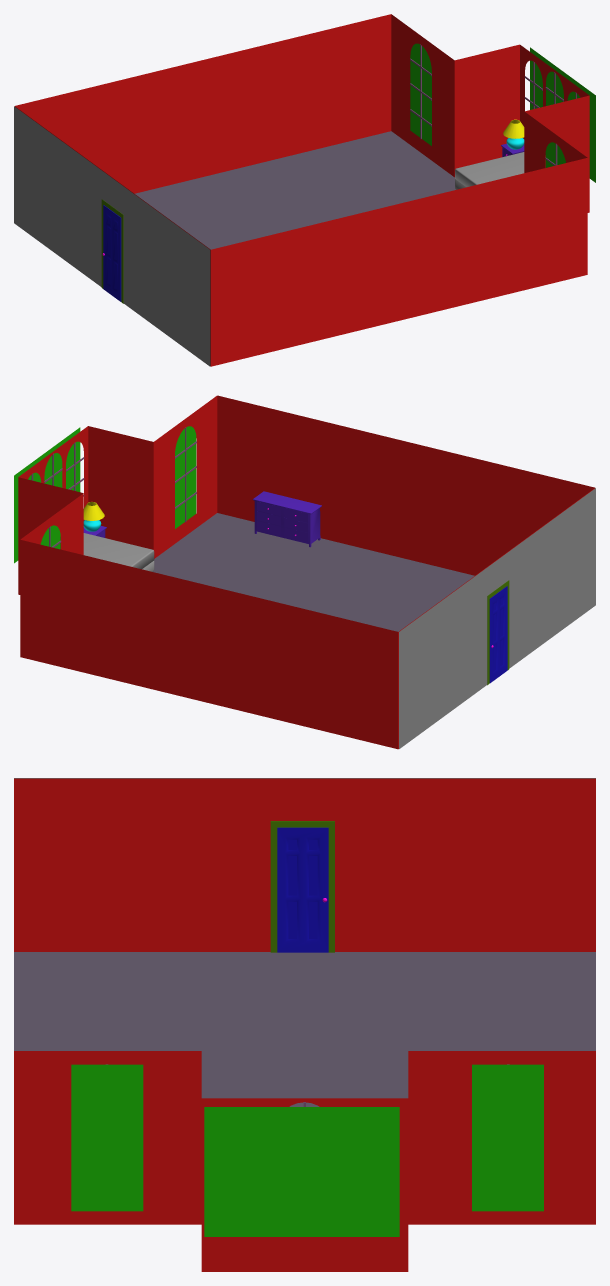
File: Bedroom.FBX
The picture shows the model from 3 angles, top to bottom: view 1: azimuth 30°, elevation 25°; view 2: azimuth 150°, elevation 25°; view 3: azimuth 270°, elevation 25°; orthographic projection. The views are drawn at different scales.
Visible parts, largest first — view 1: Box002, Object001, Plane003, Plane002, Box009, Box003, Box030; view 2: Box002, Object001, Box005, Plane003, Plane001, Box003, Box009, Box030; view 3: Box002, Plane003, Plane001, Plane002, Box009, Box030.
Part boxes in pixels (x1=…): Box002: x1=14, y1=14, x2=589, y2=366; Object001: x1=14, y1=106, x2=210, y2=366; Plane003: x1=530, y1=47, x2=595, y2=182; Plane002: x1=410, y1=43, x2=431, y2=145; Box009: x1=102, y1=205, x2=121, y2=301; Box003: x1=455, y1=152, x2=524, y2=189; Box030: x1=101, y1=199, x2=123, y2=303; Box002: x1=18, y1=395, x2=594, y2=749; Object001: x1=399, y1=488, x2=595, y2=748; Box005: x1=252, y1=491, x2=321, y2=547; Plane003: x1=14, y1=427, x2=80, y2=563; Plane001: x1=175, y1=426, x2=196, y2=528; Box003: x1=83, y1=533, x2=154, y2=571; Box009: x1=489, y1=586, x2=507, y2=683; Box030: x1=487, y1=580, x2=509, y2=685; Box002: x1=14, y1=778, x2=595, y2=1271; Plane003: x1=204, y1=1107, x2=399, y2=1236; Plane001: x1=71, y1=1064, x2=143, y2=1211; Plane002: x1=472, y1=1064, x2=543, y2=1211; Box009: x1=277, y1=827, x2=328, y2=952; Box030: x1=270, y1=821, x2=334, y2=952.
Bounding box in the file's own units: 450 × 112 × 338.
